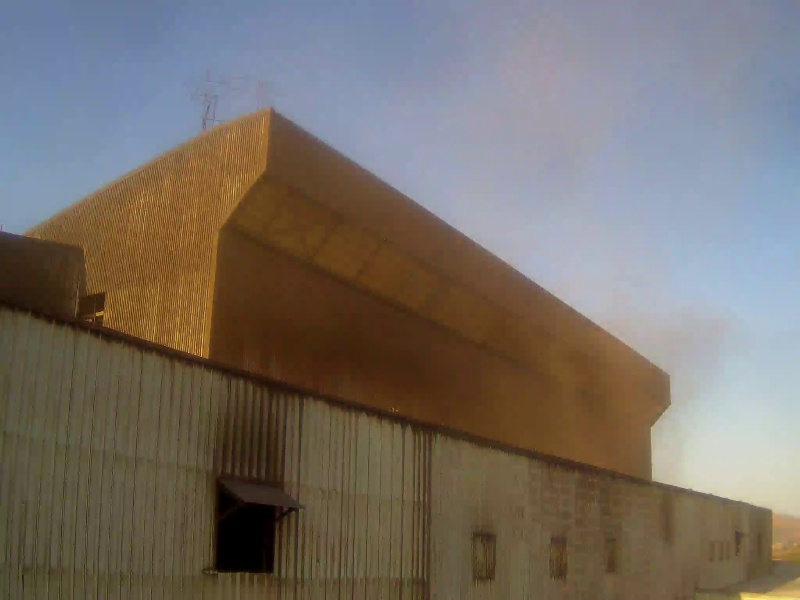pessimo: (326, 20, 725, 486)
